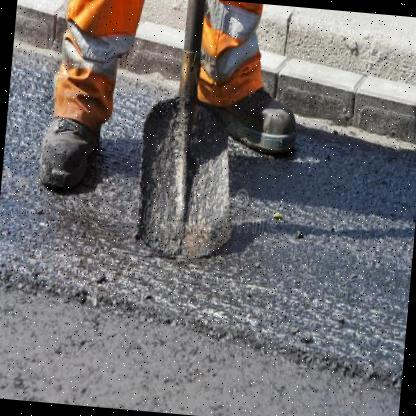bota: (29, 112, 108, 196), (224, 84, 304, 159)
